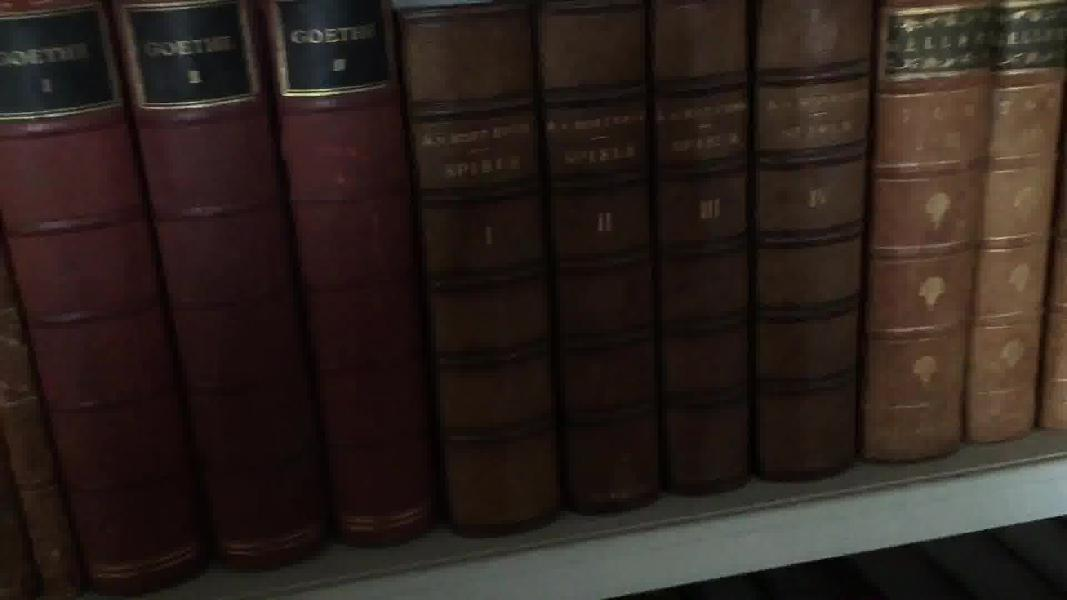Aa6-11_13: (1, 7, 436, 566)
Aa6-14_17: (396, 1, 896, 551)
